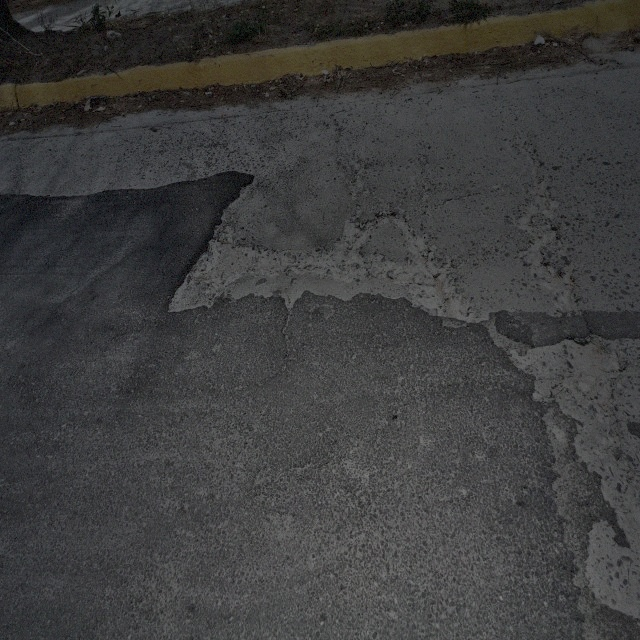pothole: (166, 220, 477, 331), (504, 332, 629, 534), (512, 170, 580, 316)
